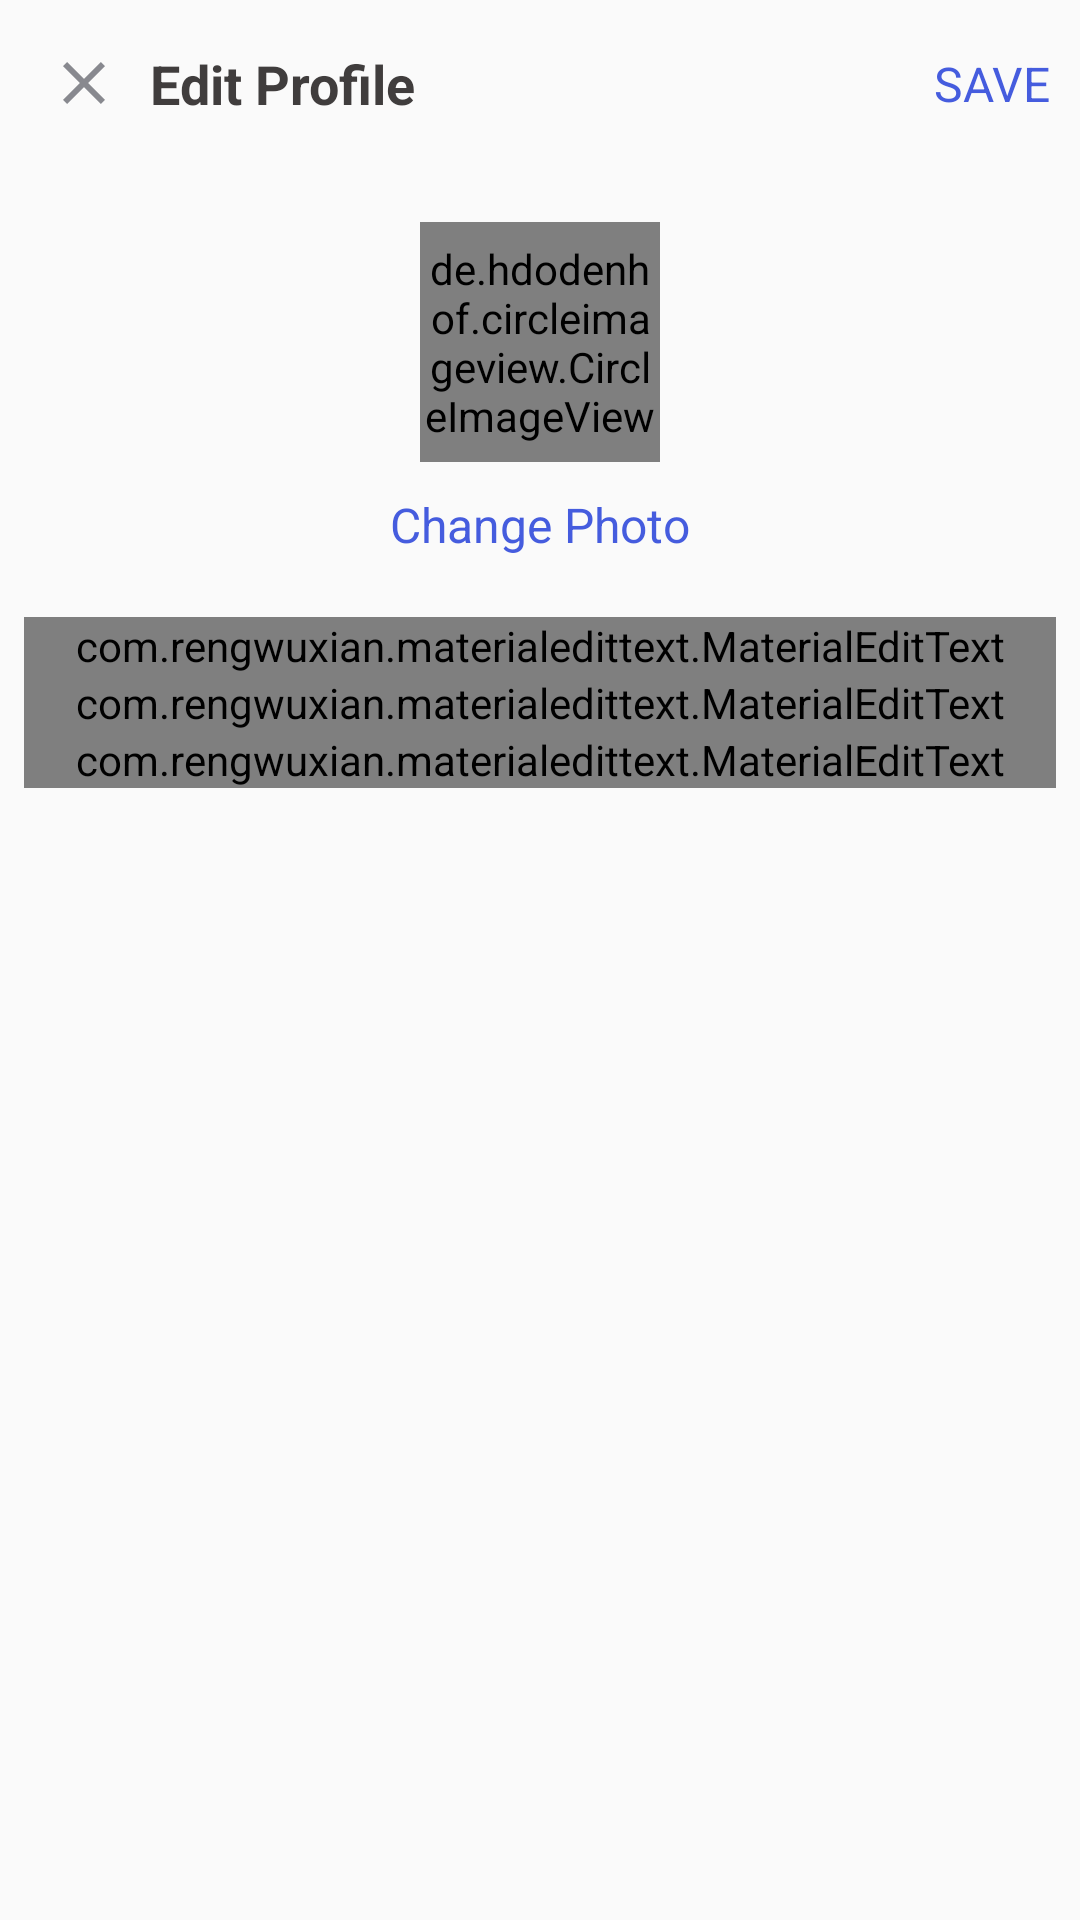

Icon click points for this 1080w x 1920h phone screenshot, format (x=x, y=y):
close: (x=84, y=83)
